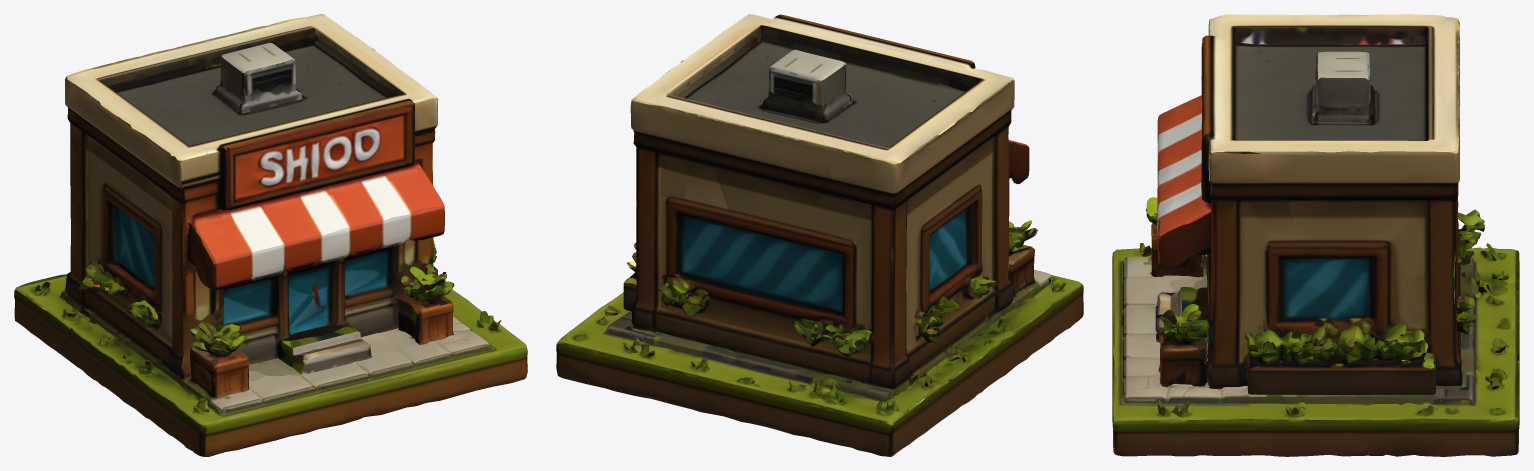
The model's file is CelCityShop1.glb.
3 views of the same model, side by side, from view 1: azimuth 30°, elevation 25°; view 2: azimuth 150°, elevation 25°; view 3: azimuth 270°, elevation 25° (orthographic). The views are drawn at different scales.
Visible parts, largest first — view 1: tmpw8agjj30.ply; view 2: tmpw8agjj30.ply; view 3: tmpw8agjj30.ply.
Part boxes in pixels (left/top/right/bottom): tmpw8agjj30.ply: left=14, top=14, right=527, bottom=456; tmpw8agjj30.ply: left=556, top=14, right=1083, bottom=456; tmpw8agjj30.ply: left=1112, top=14, right=1519, bottom=456.
Bounding box in the file's own units: 1.96 × 1.63 × 1.96.
Materials: 1 (1 with a texture image).
